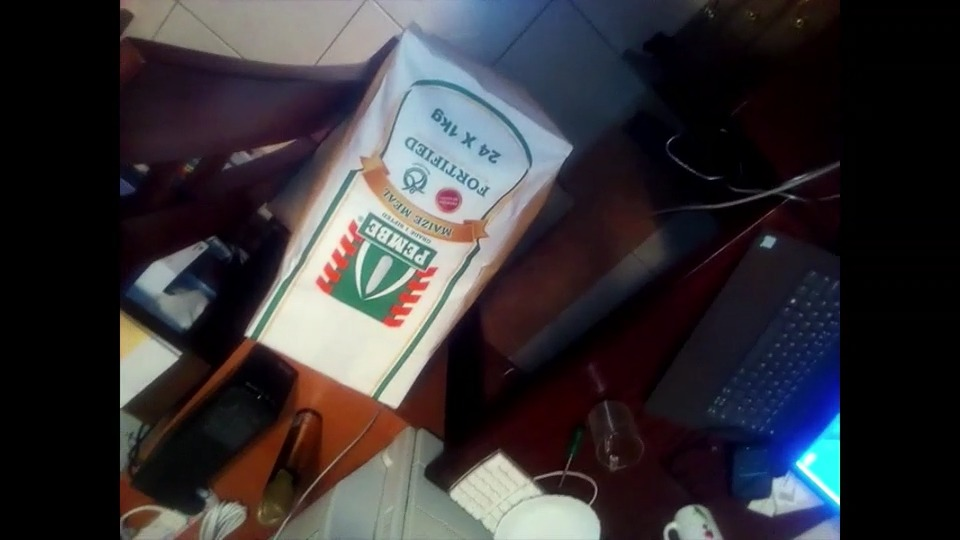maize_flour_green_label: (255, 24, 568, 410)
